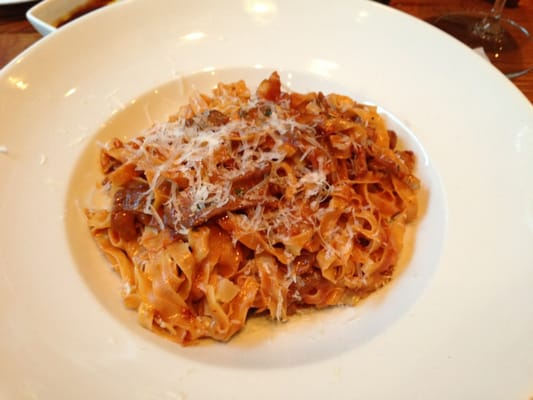sushi: (21, 77, 449, 363)
